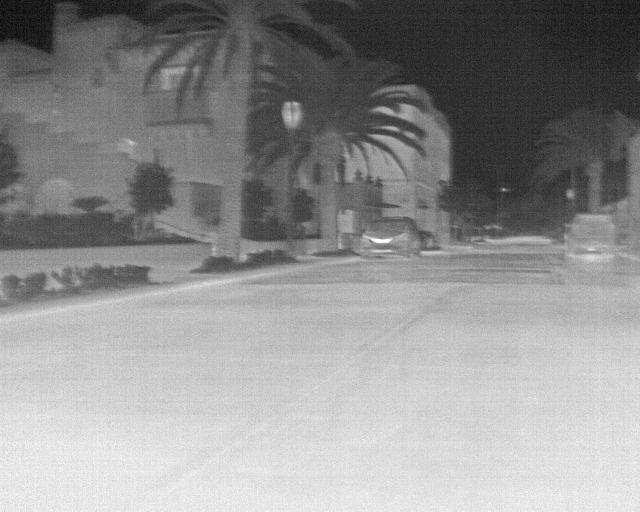car: (562, 210, 617, 264), (357, 216, 423, 259)
